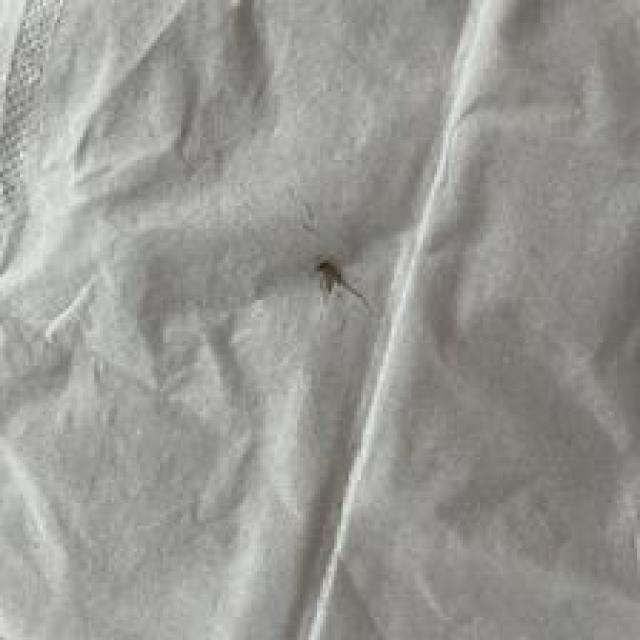Culex: (313, 257, 370, 312)
